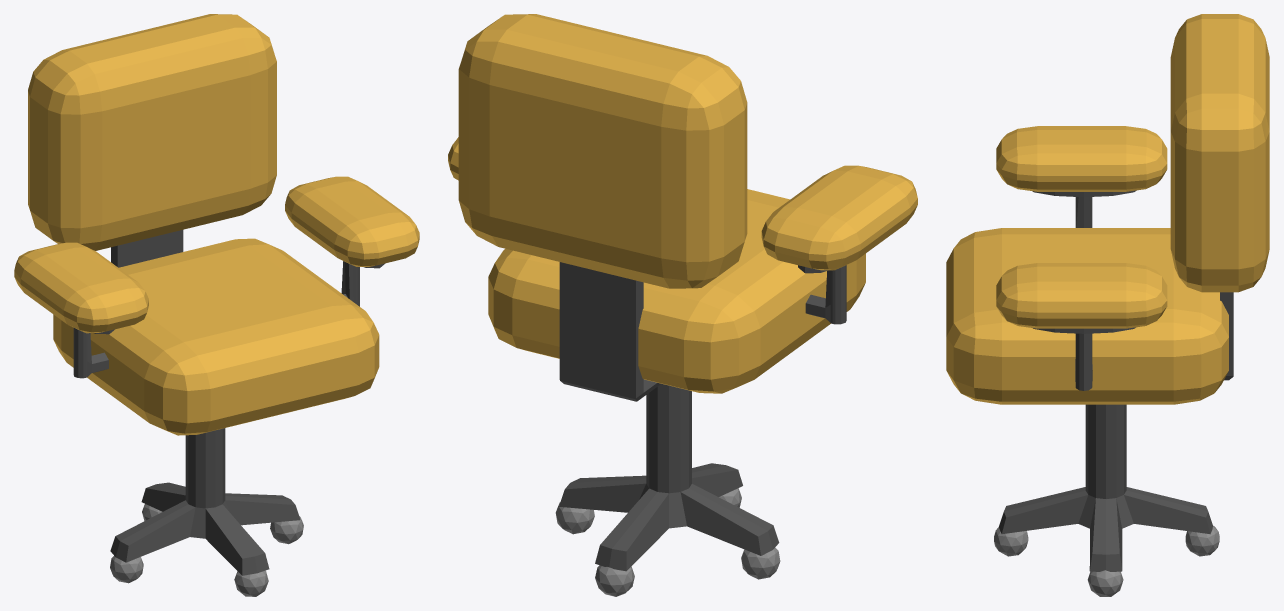
The model's file is chair.gltf.
The picture shows the model from 3 angles, left to right: view 1: azimuth 30°, elevation 25°; view 2: azimuth 150°, elevation 25°; view 3: azimuth 270°, elevation 25°; orthographic projection. The views are drawn at different scales.
Parts seen in each view (by area): view 1: Chair E; view 2: Chair E; view 3: Chair E.
Boxes of the visible parts, <box> form: Chair E: <box>14,14,419,596</box>; Chair E: <box>448,14,917,596</box>; Chair E: <box>946,14,1269,596</box>.
Size of the model in its own units: 4.3 by 5.67 by 3.32.
